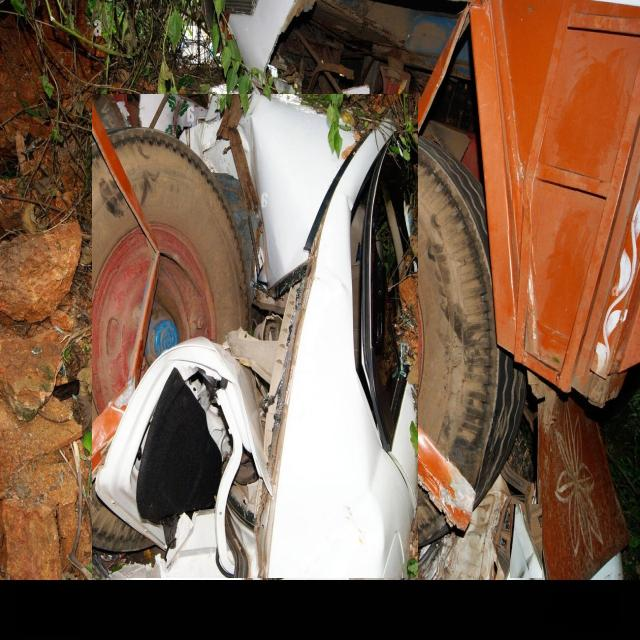accident: (92, 95, 418, 578), (401, 482, 505, 579), (510, 505, 542, 578)
